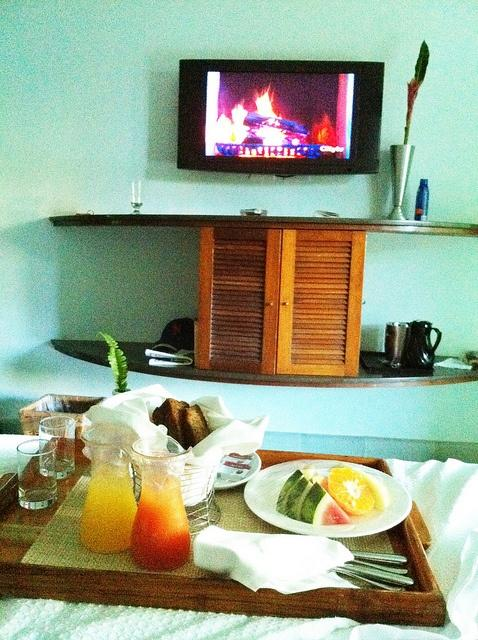AIO PC-Monitor-TV: (174, 57, 385, 175)
